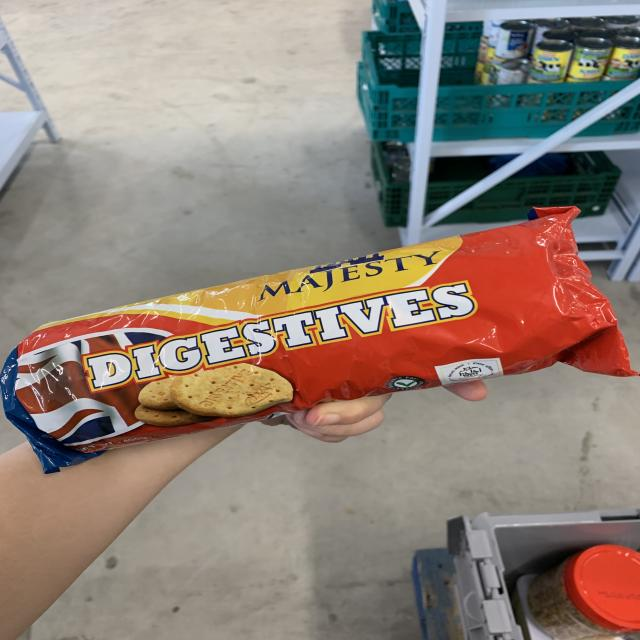object_name: (1, 250, 599, 433)
